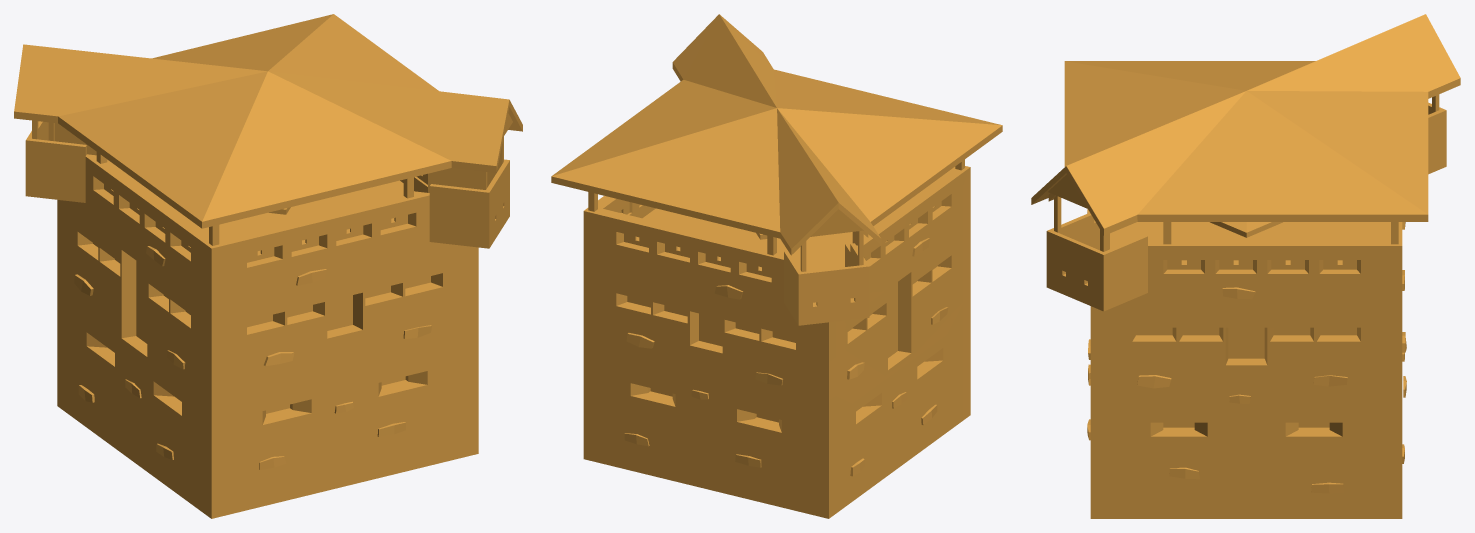
The model's file is blockhouse-general-major.fbx.
3 views of the same model, side by side, from view 1: azimuth 30°, elevation 25°; view 2: azimuth 150°, elevation 25°; view 3: azimuth 270°, elevation 25° (orthographic). The views are drawn at different scales.
Visible parts, largest first — view 1: blockhouse-general-major; view 2: blockhouse-general-major; view 3: blockhouse-general-major.
Boxes of the visible parts, x1,y1,x2,y2 form: blockhouse-general-major: (14,14,522,518); blockhouse-general-major: (551,14,1002,518); blockhouse-general-major: (1031,14,1460,518).
Bounding box in the file's own units: 8.27 × 7.69 × 8.27.
